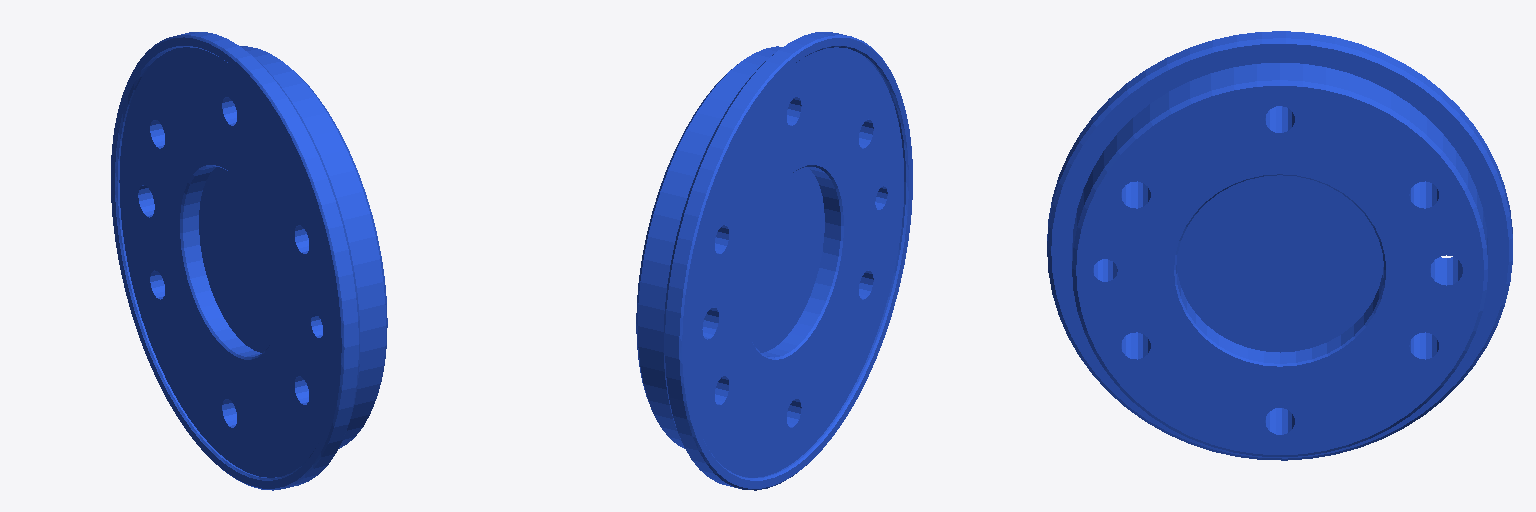
Rendered from tool.obj.
The picture shows the model from 3 angles: view 1: azimuth 30°, elevation 25°; view 2: azimuth 150°, elevation 25°; view 3: azimuth 270°, elevation 25°; orthographic projection.
Size of the model in its own units: 16.5 by 112 by 112.